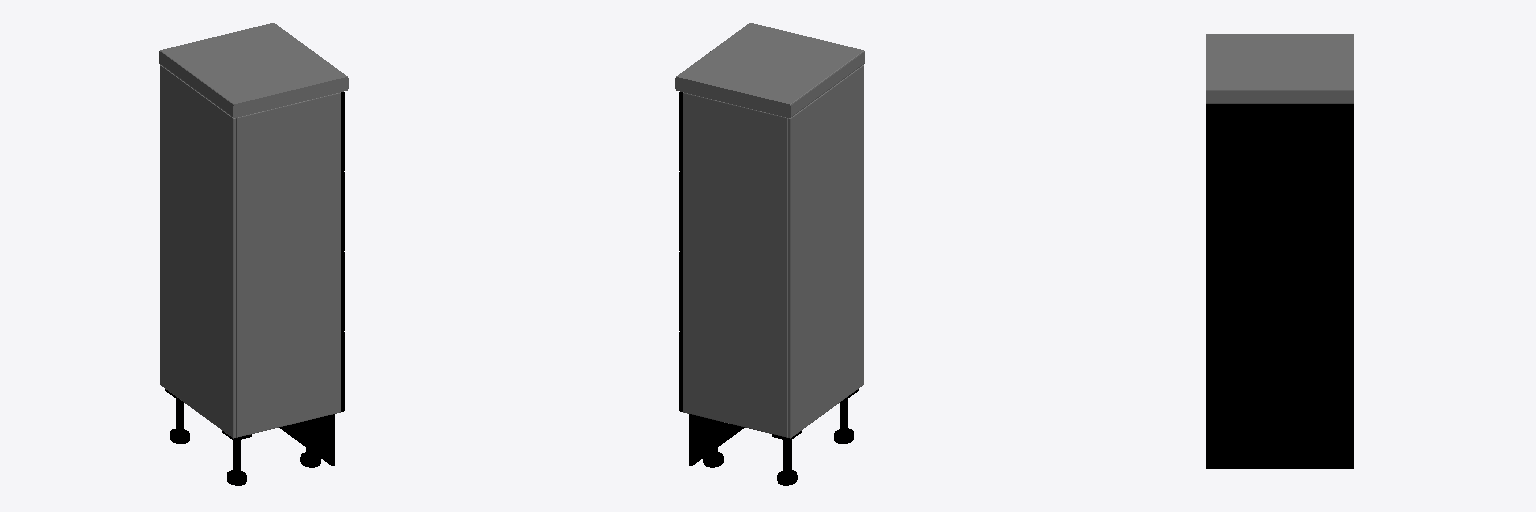
The model's file is left_pl_m2.obj.
3 renders of one model, left to right at view 1: azimuth 30°, elevation 25°; view 2: azimuth 150°, elevation 25°; view 3: azimuth 270°, elevation 25°, orthographic.
Parts seen in each view (by area): view 1: cabinet05Base4Drawer; view 2: cabinet05Base4Drawer; view 3: cabinet05Base4Drawer.
Part boxes in pixels (x1,y1,x2,y2): cabinet05Base4Drawer: (159, 23, 348, 485); cabinet05Base4Drawer: (675, 23, 864, 485); cabinet05Base4Drawer: (1206, 34, 1353, 468).
Bounding box in the file's own units: 155 × 478 × 166.